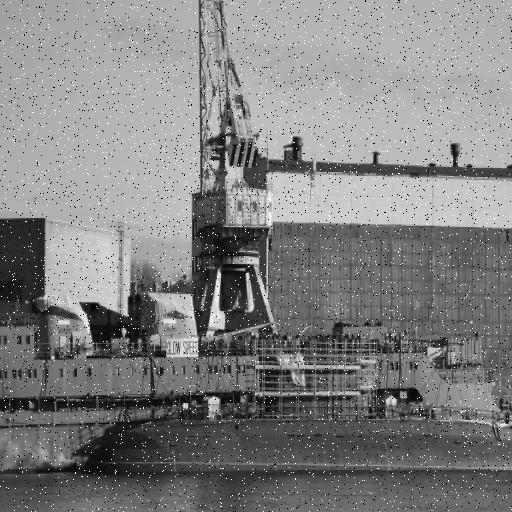submarine: (90, 412, 512, 471)
